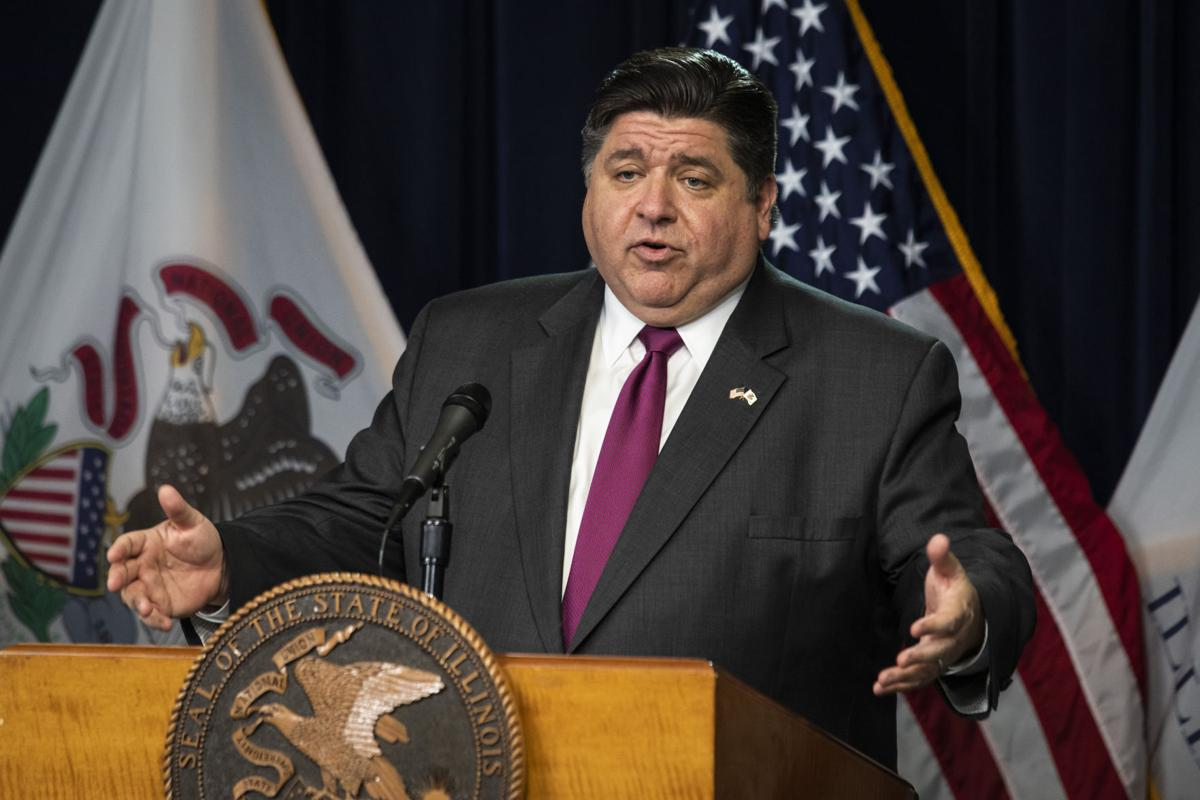without_mask: (601, 142, 730, 296)
